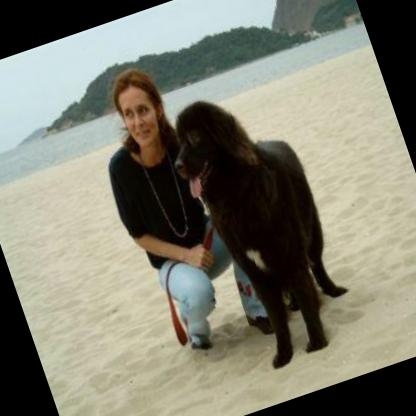Tibetan_mastiff: (148, 67, 365, 381)
